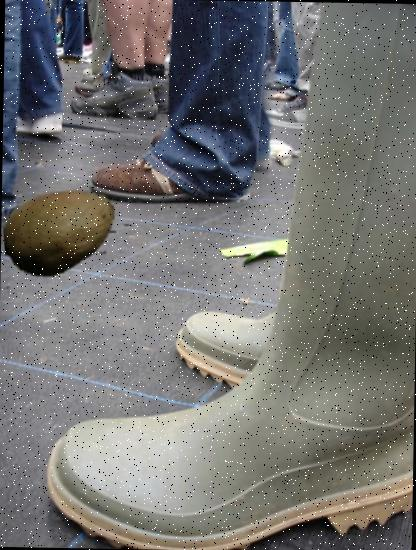Papaya: (2, 176, 116, 290)
